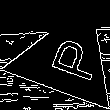P_W: (35, 34, 99, 86)
